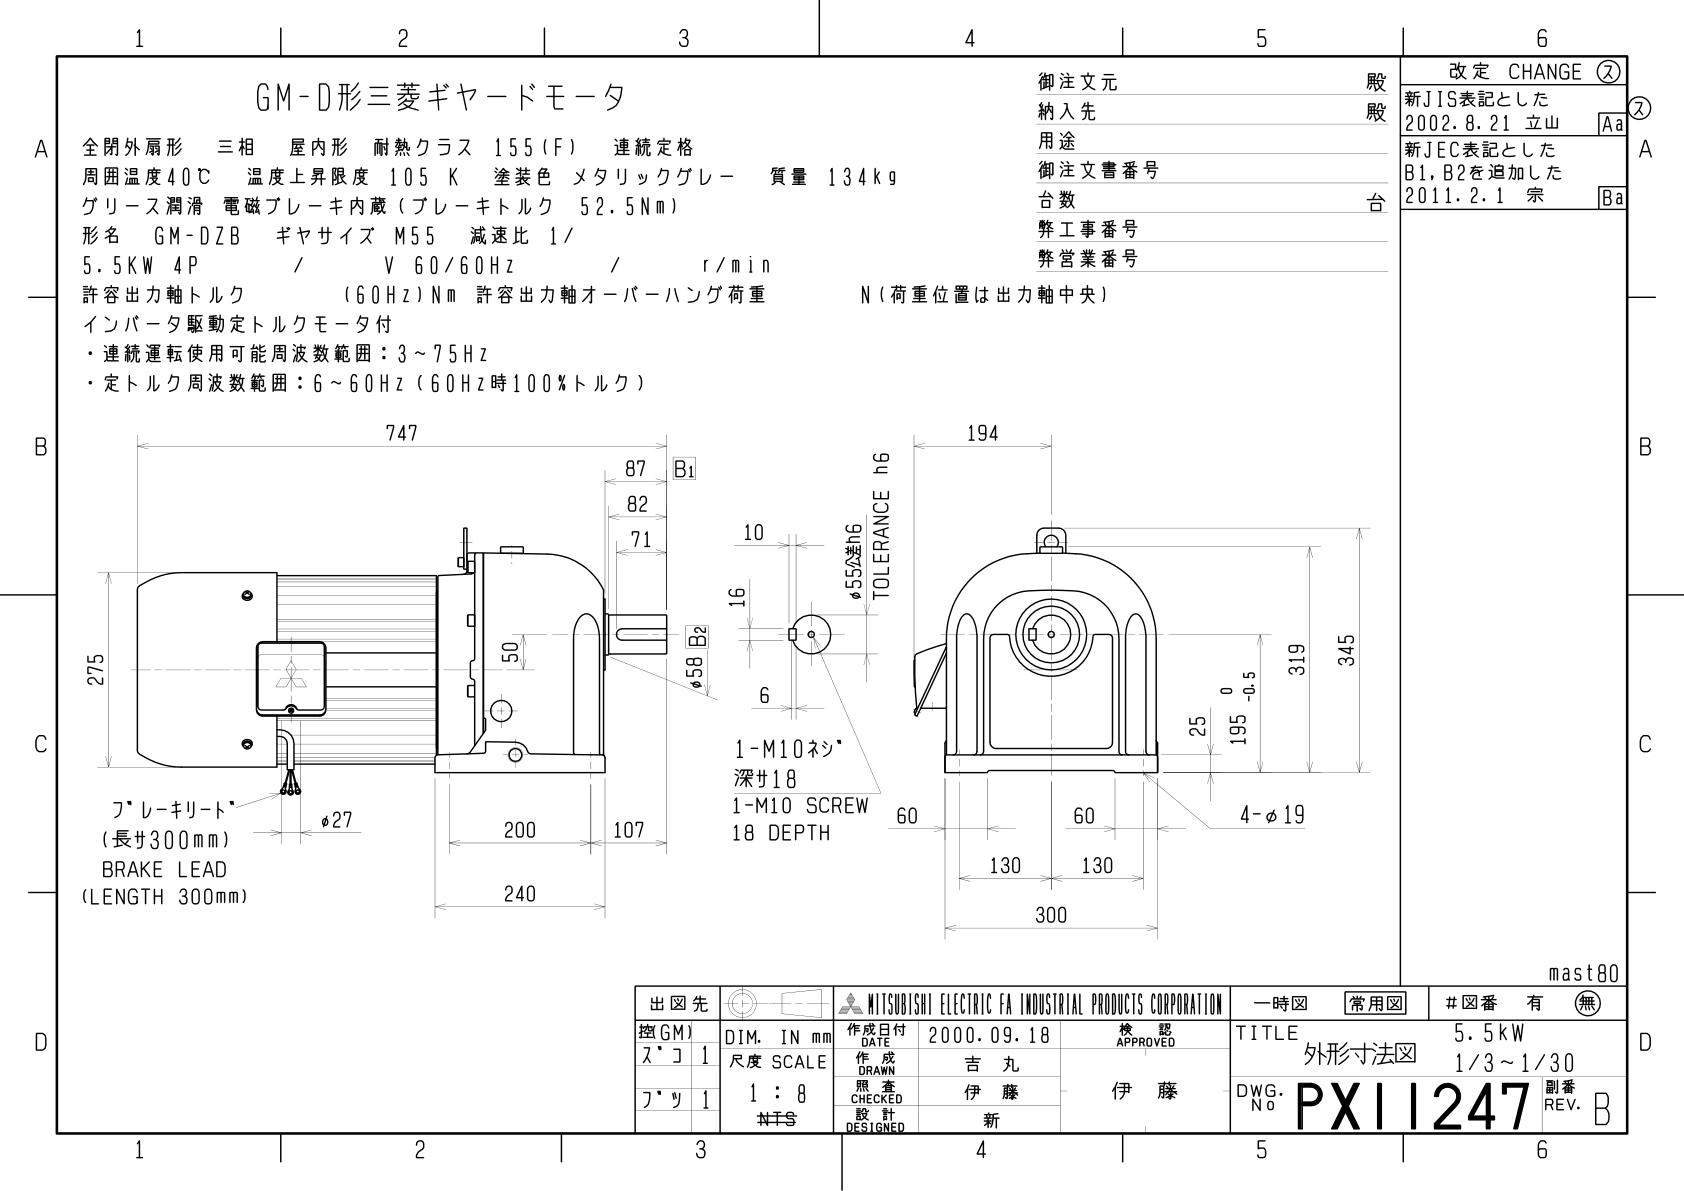GM_D_インバータ屋内_三相_脚: (67, 418, 1385, 959)
